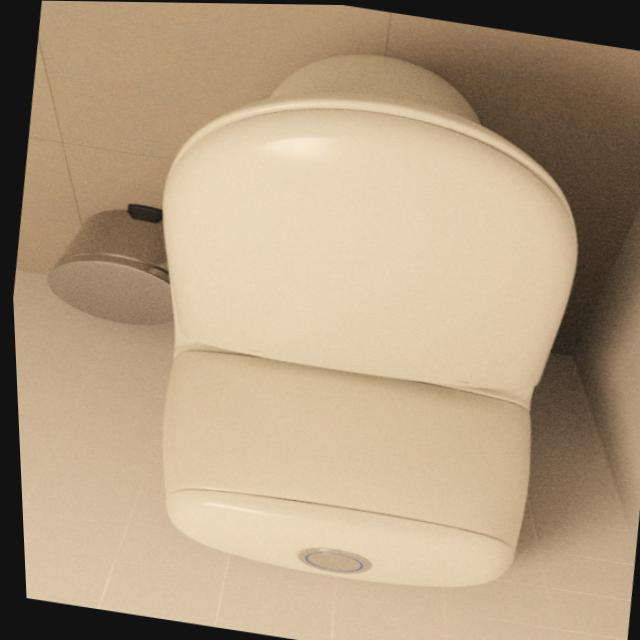toilet: (105, 22, 613, 610)
